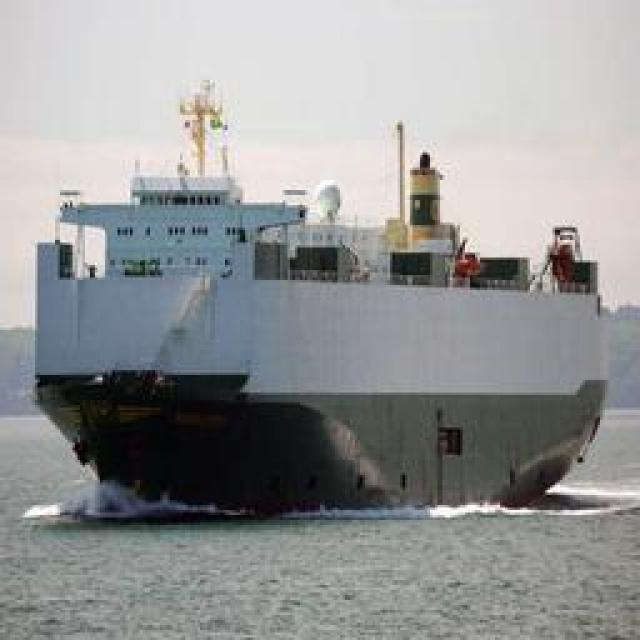ship2: (34, 75, 609, 520)
